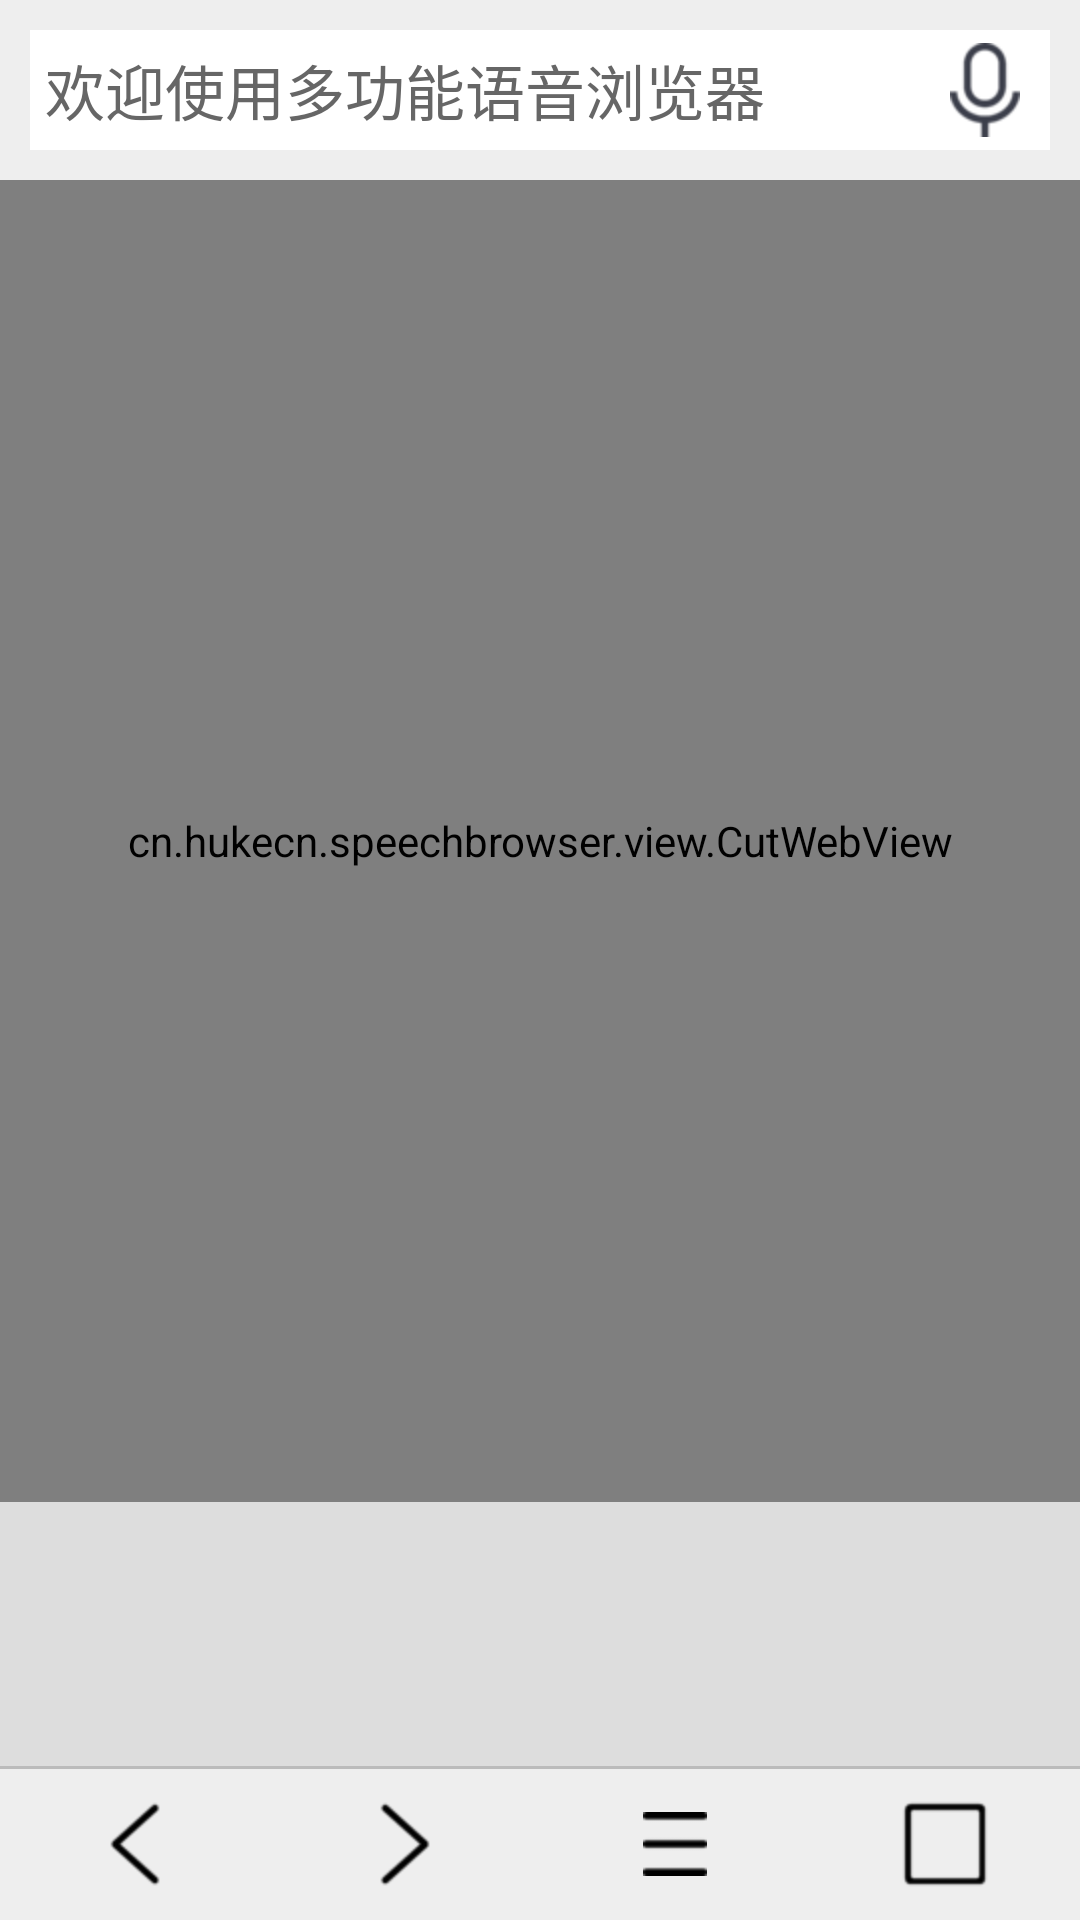

Point at icon controls on the screen. Image size 1080 × 1920, points as (x,y).
left: (135,1844)
menu: (675,1844)
microphone: (985,90)
right: (405,1844)
stop: (945,1844)
